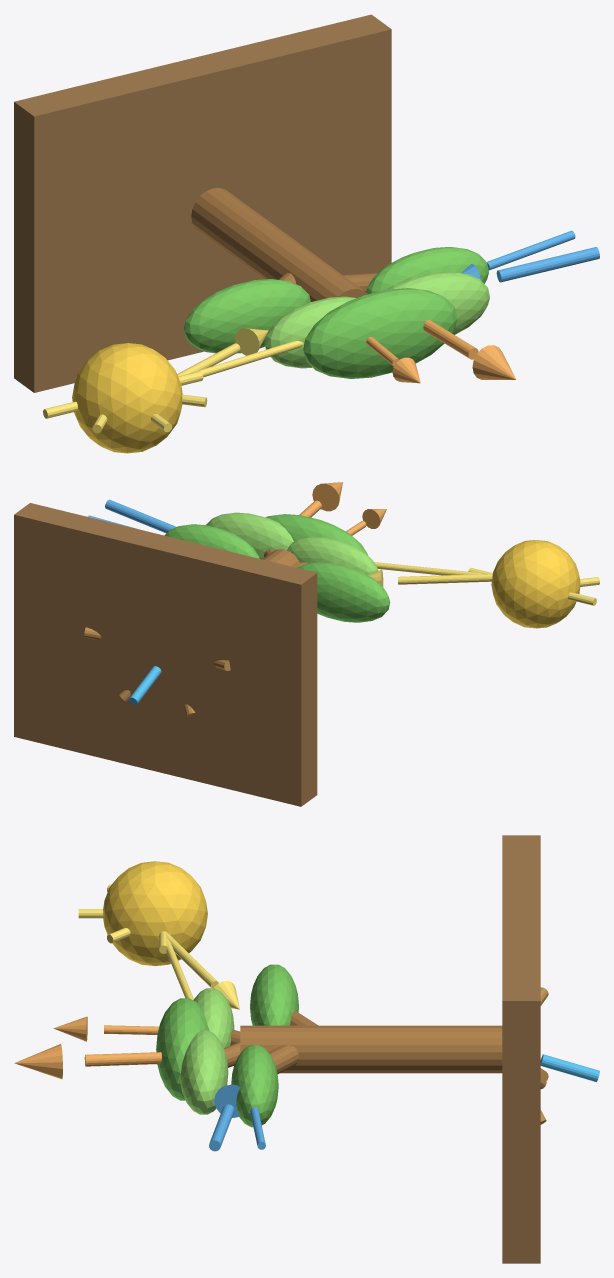
Rendered from photosynthesis_interaktif.glb.
3 views of the same model, one above another, from view 1: azimuth 30°, elevation 25°; view 2: azimuth 150°, elevation 25°; view 3: azimuth 270°, elevation 25° (orthographic). The views are drawn at different scales.
Visible parts, largest first — view 1: Tanah, Daun tengah, Matahari, Batang utama, Daun kiri bawah, Daun kanan bawah, Daun kanan atas, Daun kiri atas, CO2 masuk_batang, O2 keluar_kepala, Cahaya menuju daun 2_batang, CO2 masuk 2_batang (+3 smaller); view 2: Tanah, Matahari, Daun kiri bawah, Daun kanan atas, Daun kiri atas, Daun kanan bawah, Daun tengah, Cahaya menuju daun_batang, CO2 masuk_batang, O2 keluar_kepala, Cahaya menuju daun 2_batang, H2O diserap akar_batang; view 3: Tanah, Batang utama, Matahari, Daun kanan atas, Daun tengah, Daun kanan bawah, Daun kiri bawah, Daun kiri atas, O2 keluar_batang, O2 keluar_kepala, H2O diserap akar_batang, Cahaya menuju daun_batang (+2 smaller).
Boxes of the visible parts, bbox=[...] form: Tanah: bbox=[14, 14, 391, 392]; Daun tengah: bbox=[303, 288, 457, 378]; Matahari: bbox=[72, 343, 182, 453]; Batang utama: bbox=[191, 188, 367, 301]; Daun kiri bawah: bbox=[183, 279, 310, 353]; Daun kanan bawah: bbox=[366, 247, 488, 294]; Daun kanan atas: bbox=[387, 271, 489, 334]; Daun kiri atas: bbox=[264, 296, 356, 368]; CO2 masuk_batang: bbox=[496, 247, 599, 282]; O2 keluar_kepala: bbox=[472, 345, 516, 379]; Cahaya menuju daun 2_batang: bbox=[187, 341, 303, 377]; CO2 masuk 2_batang: bbox=[487, 230, 575, 270]; Tanah: bbox=[14, 503, 317, 806]; Matahari: bbox=[491, 540, 580, 628]; Daun kiri bawah: bbox=[297, 562, 390, 622]; Daun kanan atas: bbox=[206, 512, 293, 559]; Daun kiri atas: bbox=[287, 536, 378, 574]; Daun kanan bawah: bbox=[164, 524, 259, 558]; Daun tengah: bbox=[266, 514, 368, 555]; Cahaya menuju daun_batang: bbox=[398, 574, 492, 584]; CO2 masuk_batang: bbox=[105, 499, 176, 533]; O2 keluar_kepala: bbox=[312, 482, 342, 511]; Cahaya menuju daun 2_batang: bbox=[374, 562, 482, 575]; H2O diserap akar_batang: bbox=[129, 666, 161, 705]; Tanah: bbox=[502, 835, 540, 1263]; Batang utama: bbox=[240, 1025, 502, 1073]; Matahari: bbox=[103, 861, 207, 965]; Daun kanan atas: bbox=[180, 1030, 228, 1114]; Daun tengah: bbox=[156, 998, 209, 1100]; Daun kanan bawah: bbox=[231, 1045, 278, 1127]; Daun kiri bawah: bbox=[250, 964, 298, 1025]; Daun kiri atas: bbox=[193, 988, 234, 1047]; O2 keluar_batang: bbox=[84, 1052, 161, 1066]; O2 keluar_kepala: bbox=[14, 1044, 62, 1079]; H2O diserap akar_batang: bbox=[540, 1054, 599, 1081]; Cahaya menuju daun_batang: bbox=[164, 931, 218, 988].
Size of the model in its own units: 7.46 by 3.4 by 6.88.
